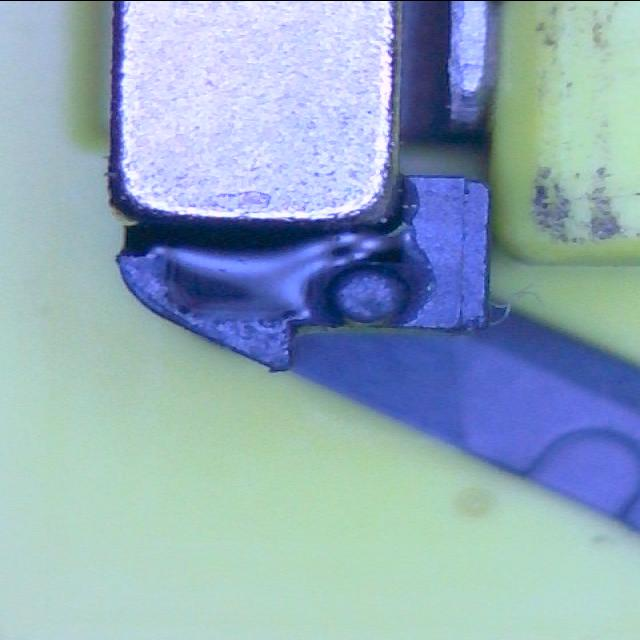over: (160, 230, 332, 320)
